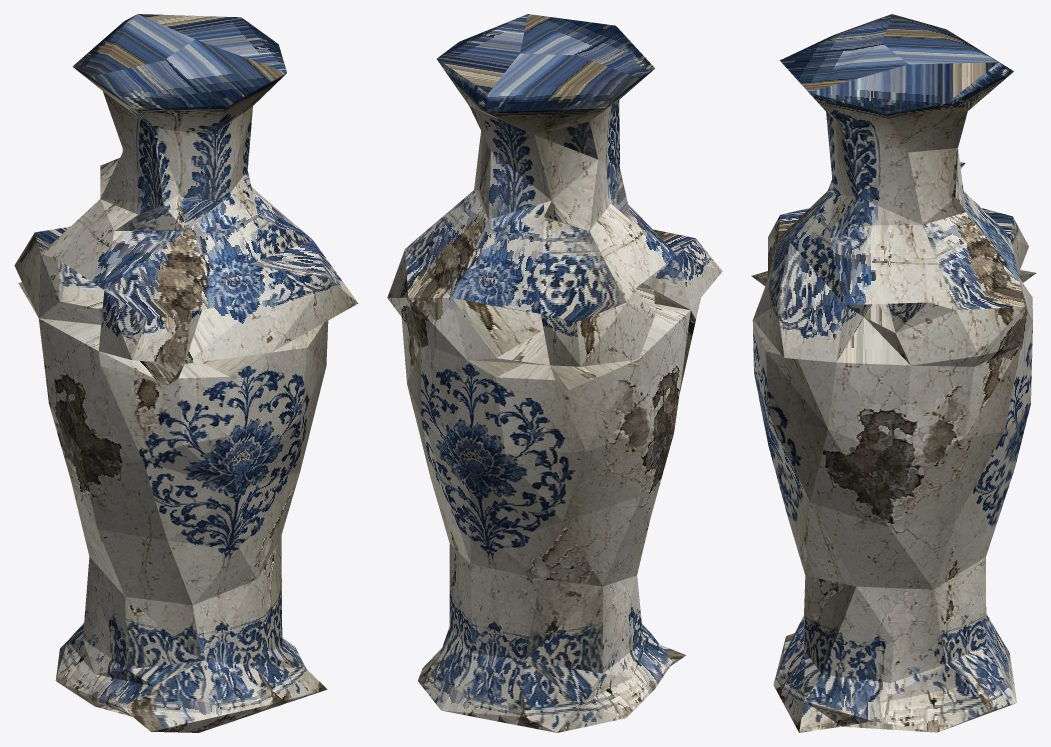
The model's file is vase_med.glb.
3 renders of one model, left to right at view 1: azimuth 30°, elevation 25°; view 2: azimuth 150°, elevation 25°; view 3: azimuth 270°, elevation 25°, orthographic.
Parts seen in each view (by area): view 1: vase_med; view 2: vase_med; view 3: vase_med.
Part boxes in pixels (box(x1,y1,x2,y2)): vase_med: box(14, 14, 358, 732); vase_med: box(387, 14, 722, 732); vase_med: box(751, 14, 1036, 732).
Bounding box in the file's own units: 0.3881 × 1 × 0.4005.
Materials: 1 (1 with a texture image).
